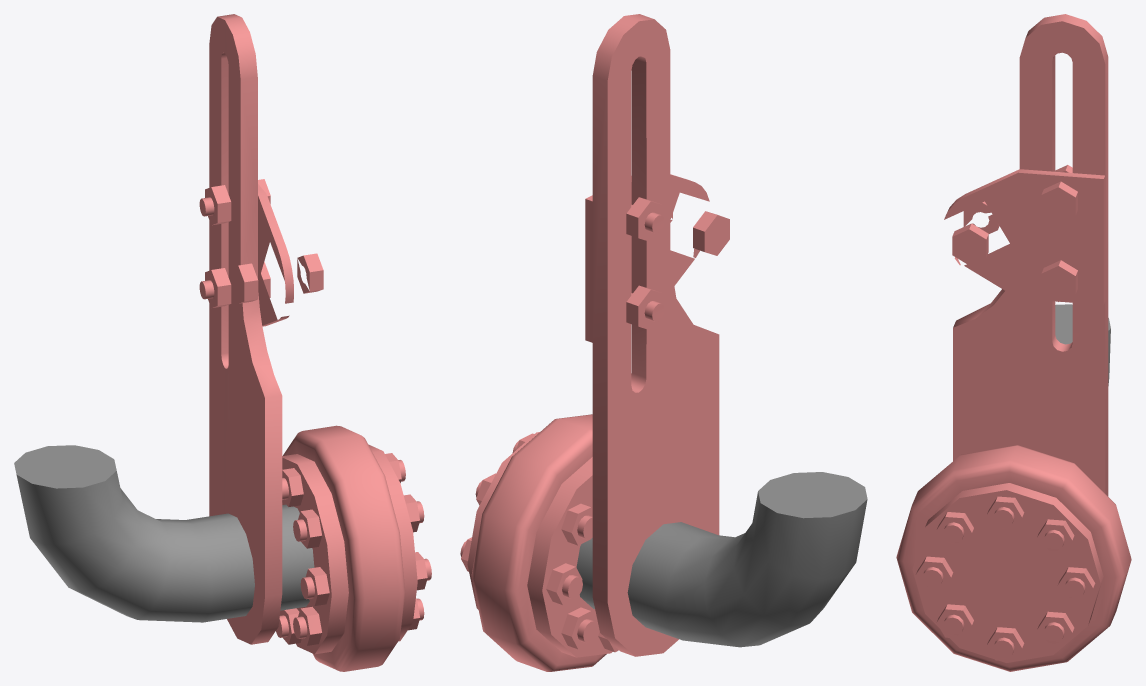
File: SM_SUG_All_Left_01.gltf
3 renders of one model, left to right at view 1: azimuth 30°, elevation 25°; view 2: azimuth 150°, elevation 25°; view 3: azimuth 270°, elevation 25°, orthographic. The views are drawn at different scales.
Visible parts, largest first — view 1: SM_SUG_All_Left_01; view 2: SM_SUG_All_Left_01; view 3: SM_SUG_All_Left_01.
Part boxes in pixels (x1,y1,x2,y2): SM_SUG_All_Left_01: (14, 14, 431, 671); SM_SUG_All_Left_01: (460, 14, 867, 671); SM_SUG_All_Left_01: (896, 14, 1131, 671).
Bounding box in the file's own units: 0.1754 × 0.296 × 0.1036.
